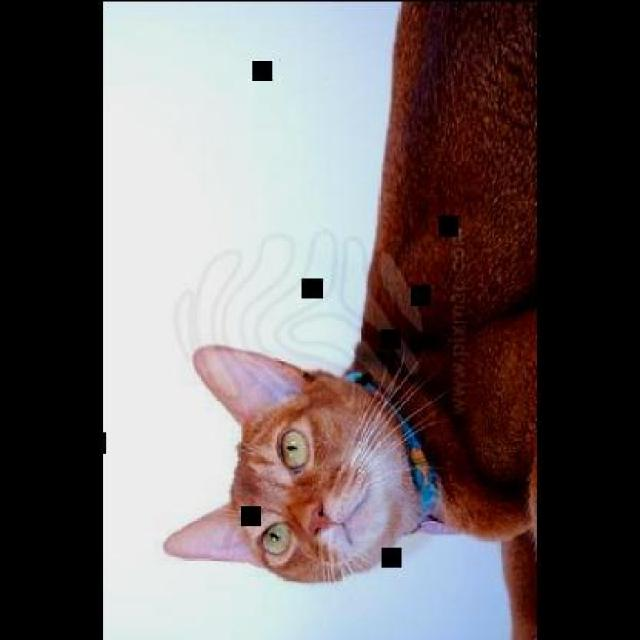unauthorized: (161, 0, 538, 638), (162, 340, 536, 638)
